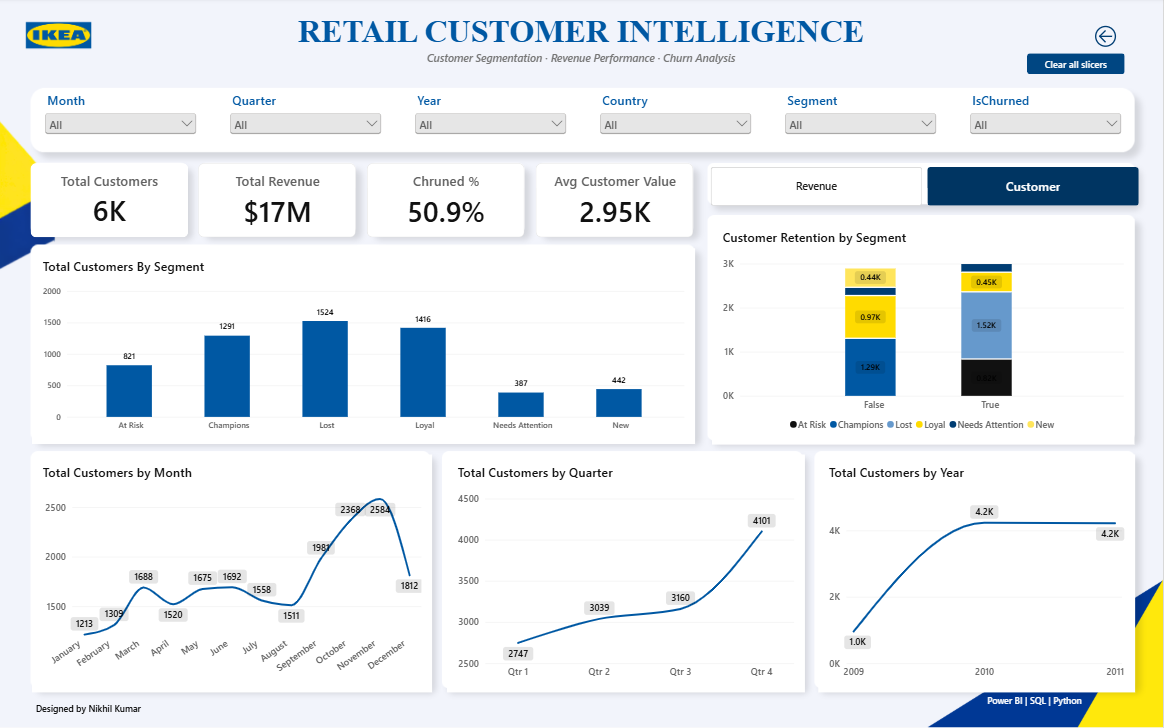

This screenshot's page, from the dashboard's own definition file:
{"tool":"powerbi","page":{"name":"Overview","canvas":[1750,1100],"ordinal":0},"visuals":[{"type":"cardVisual","fields":{"Data":["Sheet1.Total Customers"]},"box":[50,249.2,236.2,111],"z":0},{"type":"columnChart","title":"Total Revenue By Segment","fields":{"Category":["Sheet1.Segment"],"Y":["Sheet1.Total Revenue"]},"box":[49.4,373.1,994.4,293.5],"z":0,"group":"g1"},{"type":"cardVisual","fields":{"Data":["Sheet1.Total Revenue"]},"box":[302.7,249.2,236.2,111],"z":1000},{"type":"pieChart","title":"Revenue Retention by Segment","fields":{"Category":["Sheet1.Segment"],"Series":["Sheet1.IsChurned"],"Y":["Sheet1.Total Revenue"]},"box":[1069.8,329.2,633.7,337.4],"z":1000,"group":"g1"},{"type":"cardVisual","fields":{"Data":["Sheet1.Chruned %"]},"box":[555.3,249,236.2,111],"z":2000},{"type":"lineChart","fields":{"Category":["Sheet1.InvoiceDate.Variation.Date Hierarchy.Month"],"Y":["Sheet1.Total Revenue"]},"box":[50,681.7,600,356.7],"z":2000,"group":"g1"},{"type":"cardVisual","fields":{"Data":["Sheet1.Avg Customer Value"]},"box":[808,249,236,111],"z":3000},{"type":"lineChart","fields":{"Category":["Sheet1.InvoiceDate.Variation.Date Hierarchy.Quarter"],"Y":["Sheet1.Total Revenue"]},"box":[670.9,681.7,536.7,356.7],"z":3000,"group":"g1"},{"type":"slicer","fields":{"Values":["Sheet1.InvoiceDate.Variation.Date Hierarchy.Month"]},"box":[67.5,142.5,236.2,80.6],"z":4000},{"type":"lineChart","fields":{"Category":["Sheet1.InvoiceDate.Variation.Date Hierarchy.Year"],"Y":["Sheet1.Total Revenue"]},"box":[1228.4,681.7,475,356.7],"z":4000,"group":"g1"},{"type":"slicer","fields":{"Values":["Sheet1.InvoiceDate.Variation.Date Hierarchy.Quarter"]},"box":[345,142.6,236.2,80.6],"z":5000},{"type":"slicer","fields":{"Values":["Sheet1.InvoiceDate.Variation.Date Hierarchy.Year"]},"box":[622.6,142.6,236.2,80.6],"z":6000},{"type":"slicer","fields":{"Values":["Sheet1.Country"]},"box":[900.1,142.6,236.2,80.6],"z":7000},{"type":"slicer","fields":{"Values":["Sheet1.Segment"]},"box":[1177.7,142.6,236.2,80.6],"z":8000},{"type":"slicer","fields":{"Values":["Sheet1.IsChurned"]},"box":[1455.2,142.6,236.2,80.6],"z":9000},{"type":"group","id":"g1","title":"Revenue","box":[49.4,329.2,1654.1,709.2],"z":10000},{"type":"bookmarkNavigator","box":[1069.8,255.1,643.3,59],"z":12000},{"type":"textbox","box":[57.6,1057.5,513,42.5],"z":13000},{"type":"image","box":[0,15.1,185.2,85],"z":14000},{"type":"textbox","box":[49.4,24.7,1654.1,118],"z":15000},{"type":"textbox","box":[1444.3,1046.5,224.9,32.9],"z":16000},{"type":"actionButton","box":[1613,37,100,40],"z":17000},{"type":"actionButton","box":[1544.4,83.7,146.8,31.5],"z":18000}]}

Visuals, with their boxes in screenshot pixels (x1, y1, x2, y2), scaled from the page's 1750x1100 canvas onto the 1164x728 screenshot:
cardVisual - Sheet1.Total Customers: <bbox>33, 165, 190, 238</bbox>
"Total Revenue By Segment" columnChart: <bbox>33, 247, 694, 441</bbox>
cardVisual - Sheet1.Total Revenue: <bbox>201, 165, 358, 238</bbox>
"Revenue Retention by Segment" pieChart: <bbox>712, 218, 1133, 441</bbox>
cardVisual - Sheet1.Chruned %: <bbox>369, 165, 526, 238</bbox>
lineChart - Sheet1.InvoiceDate.Variation.Date Hierarchy.Month x Sheet1.Total Revenue: <bbox>33, 451, 432, 687</bbox>
cardVisual - Sheet1.Avg Customer Value: <bbox>537, 165, 694, 238</bbox>
lineChart - Sheet1.InvoiceDate.Variation.Date Hierarchy.Quarter x Sheet1.Total Revenue: <bbox>446, 451, 803, 687</bbox>
slicer - Sheet1.InvoiceDate.Variation.Date Hierarchy.Month: <bbox>45, 94, 202, 148</bbox>
lineChart - Sheet1.InvoiceDate.Variation.Date Hierarchy.Year x Sheet1.Total Revenue: <bbox>817, 451, 1133, 687</bbox>
slicer - Sheet1.InvoiceDate.Variation.Date Hierarchy.Quarter: <bbox>229, 94, 387, 148</bbox>
slicer - Sheet1.InvoiceDate.Variation.Date Hierarchy.Year: <bbox>414, 94, 571, 148</bbox>
slicer - Sheet1.Country: <bbox>599, 94, 756, 148</bbox>
slicer - Sheet1.Segment: <bbox>783, 94, 940, 148</bbox>
slicer - Sheet1.IsChurned: <bbox>968, 94, 1125, 148</bbox>
"Revenue" group: <bbox>33, 218, 1133, 687</bbox>
bookmarkNavigator: <bbox>712, 169, 1139, 208</bbox>
textbox: <bbox>38, 700, 380, 727</bbox>
image: <bbox>0, 10, 123, 66</bbox>
textbox: <bbox>33, 16, 1133, 94</bbox>
textbox: <bbox>961, 693, 1110, 714</bbox>
actionButton: <bbox>1073, 24, 1139, 51</bbox>
actionButton: <bbox>1027, 55, 1125, 76</bbox>
